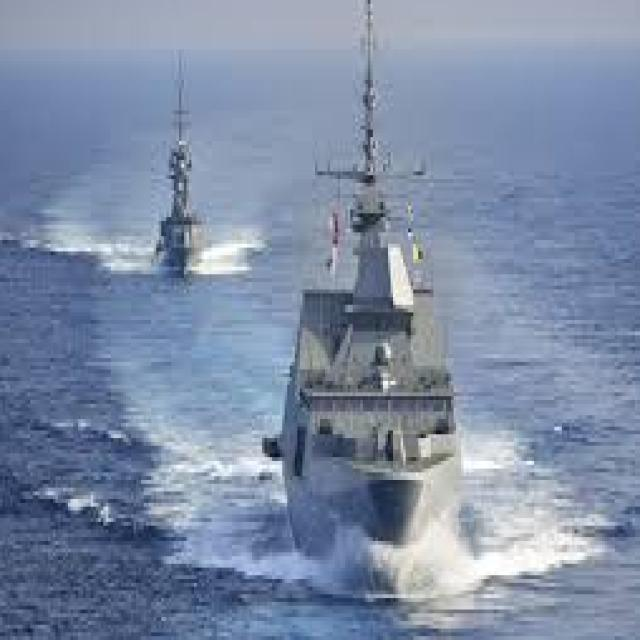navalvessels: (262, 0, 489, 571), (138, 59, 213, 260)
